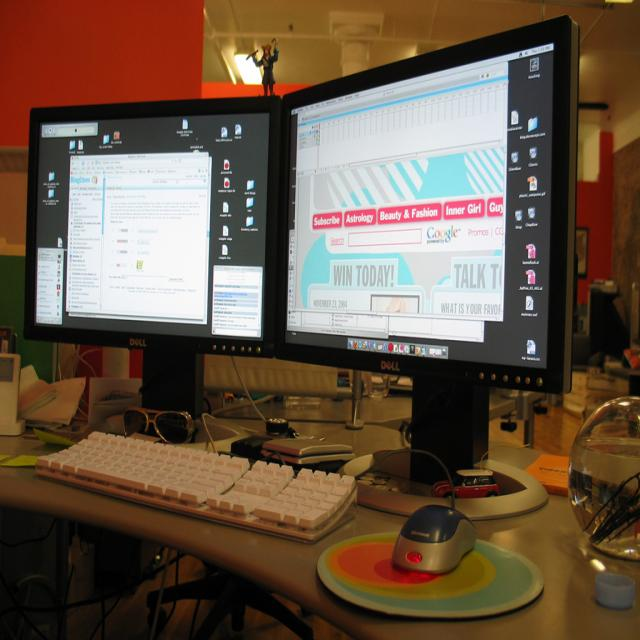Computer mouse: (391, 502, 478, 576)
